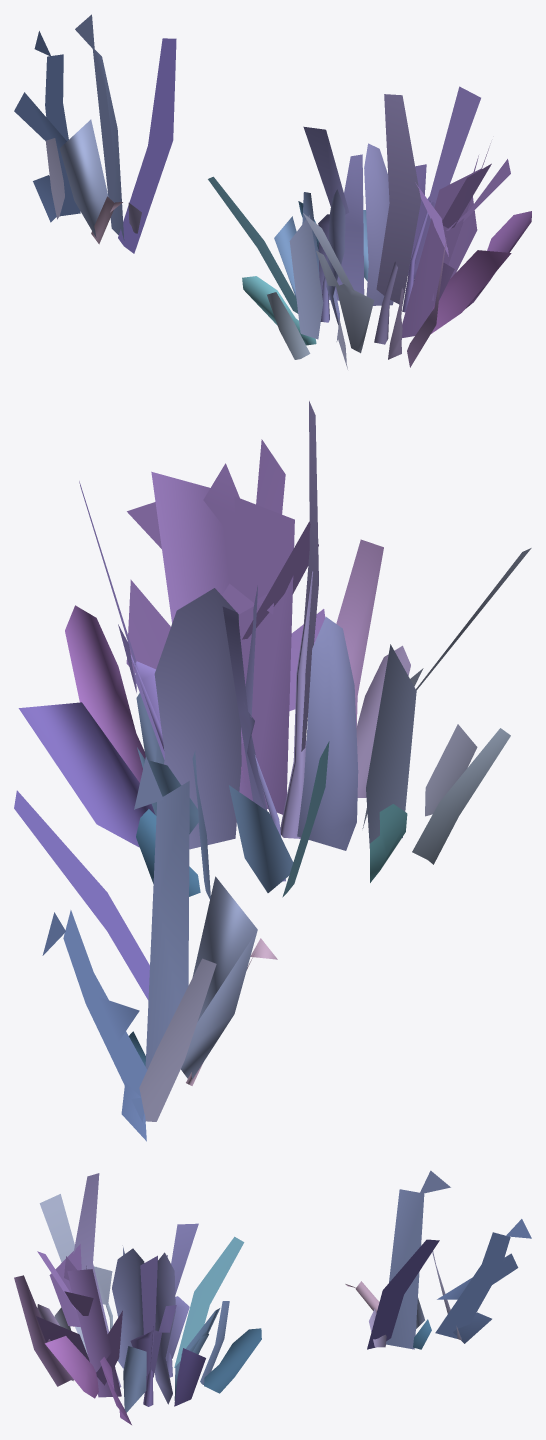
3 renders of one model, top to bottom at view 1: azimuth 30°, elevation 25°; view 2: azimuth 150°, elevation 25°; view 3: azimuth 270°, elevation 25°, orthographic. The views are drawn at different scales.
Visible parts, largest first — view 1: SM_BS_WitheredBush_70cm_HD; view 2: SM_BS_WitheredBush_70cm_HD; view 3: SM_BS_WitheredBush_70cm_HD.
Boxes of the visible parts, x1,y1,x2,y2 form: SM_BS_WitheredBush_70cm_HD: [14, 14, 531, 369]; SM_BS_WitheredBush_70cm_HD: [14, 401, 531, 1141]; SM_BS_WitheredBush_70cm_HD: [14, 1170, 531, 1424].
Bounding box in the file's own units: 58.78 × 32.33 × 27.4.
